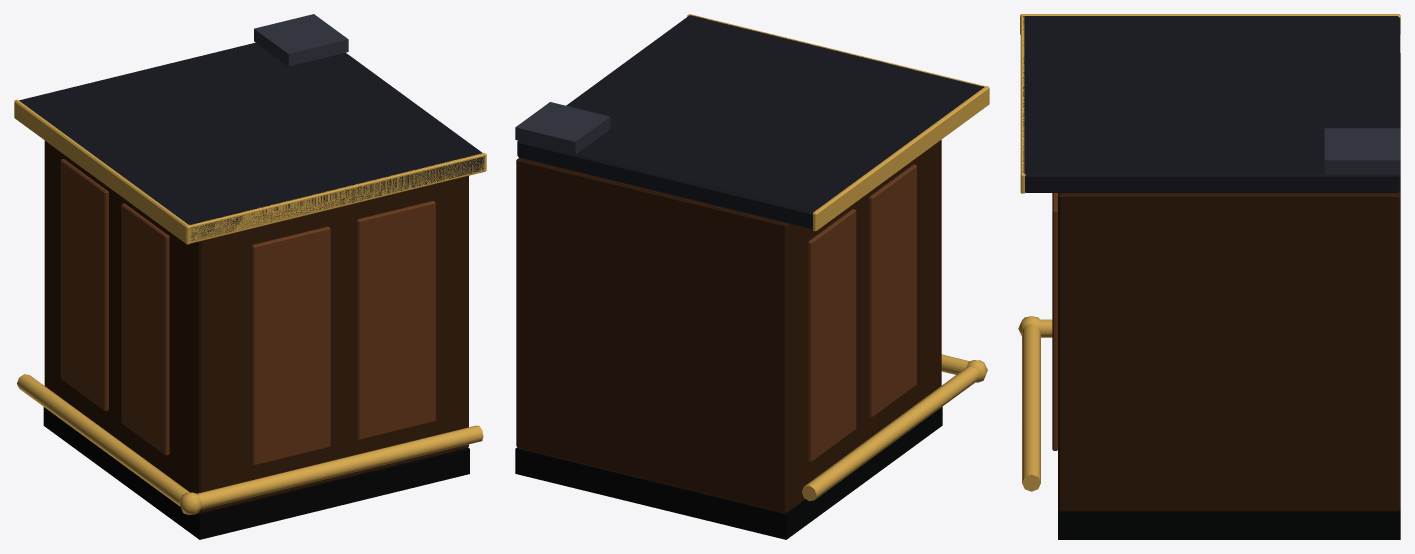
Rendered from bar_corner.glb.
3 views of the same model, side by side, from view 1: azimuth 30°, elevation 25°; view 2: azimuth 150°, elevation 25°; view 3: azimuth 270°, elevation 25° (orthographic). The views are drawn at different scales.
Parts seen in each view (by area): view 1: bar_corner; view 2: bar_corner; view 3: bar_corner.
Boxes of the visible parts, left/top/right/bottom form: bar_corner: left=14, top=14, right=486, bottom=539; bar_corner: left=515, top=14, right=989, bottom=539; bar_corner: left=1018, top=14, right=1400, bottom=539.
Size of the model in its own units: 1.01 by 1.1 by 1.01.
